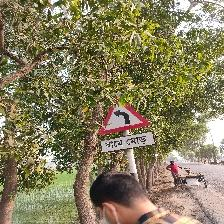Left-Turn: (98, 103, 156, 152)
